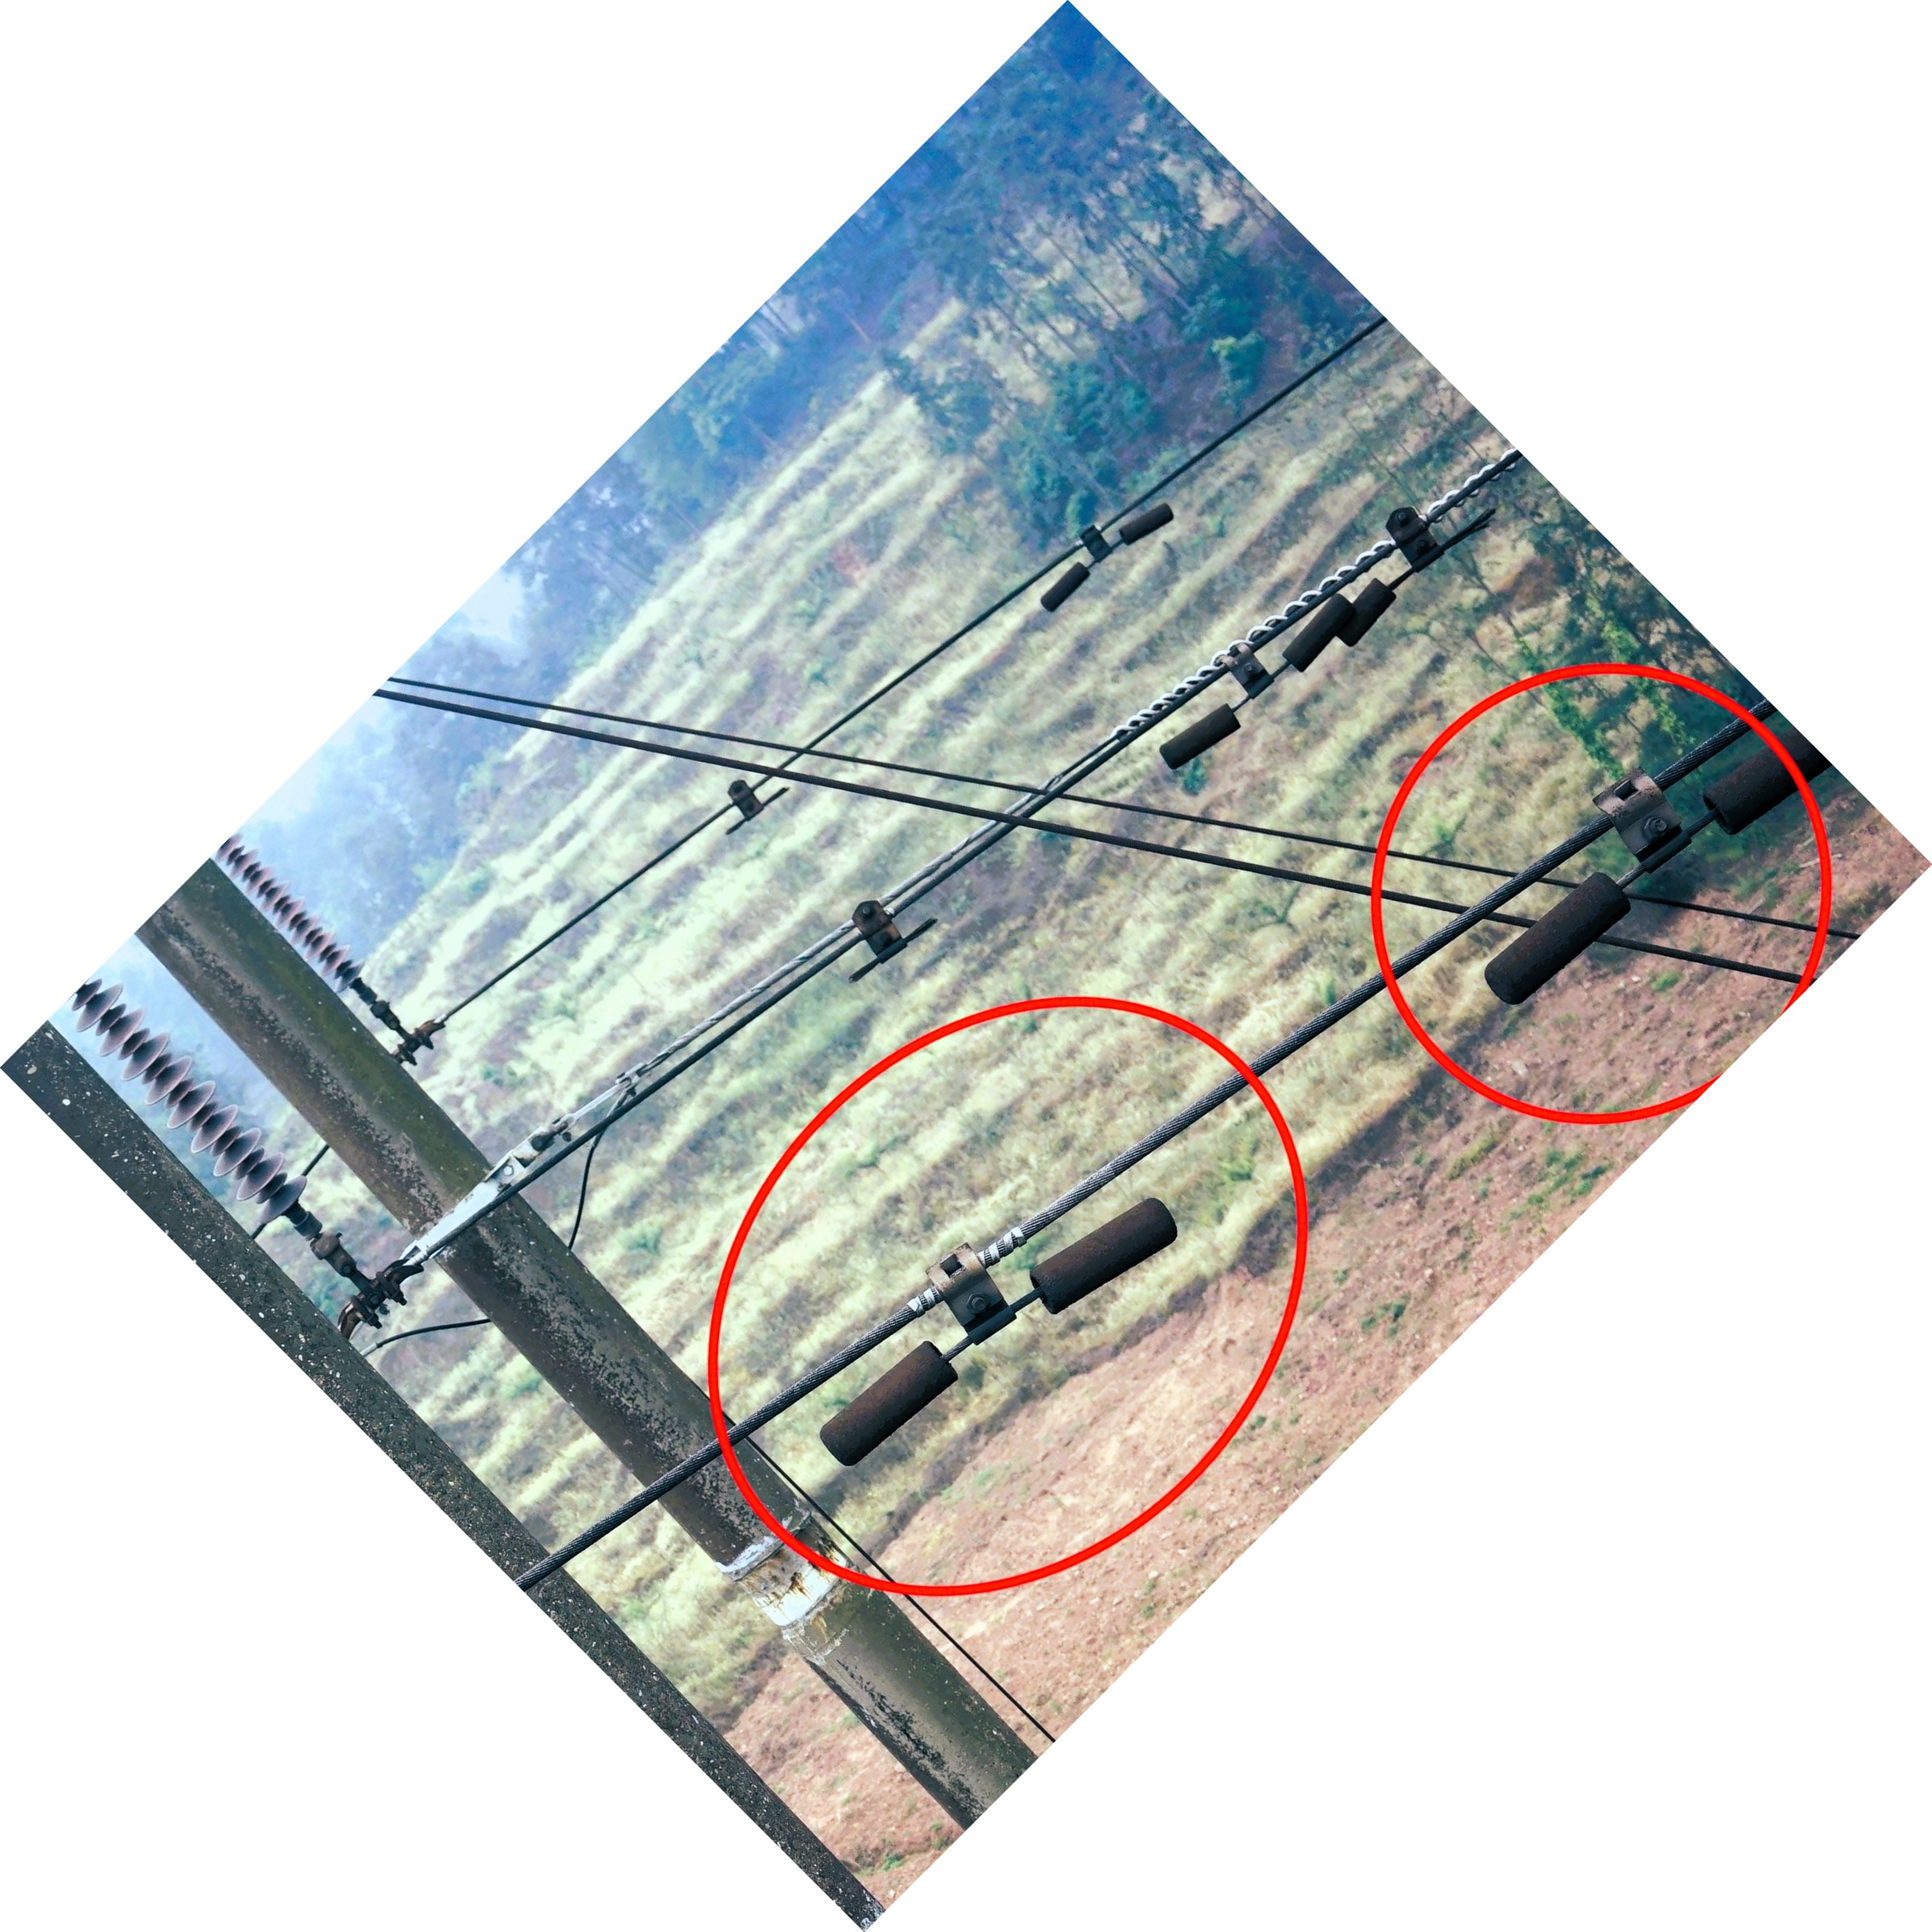Damage of shockproof hammer: (1330, 471, 1532, 676), (810, 876, 975, 1042)
